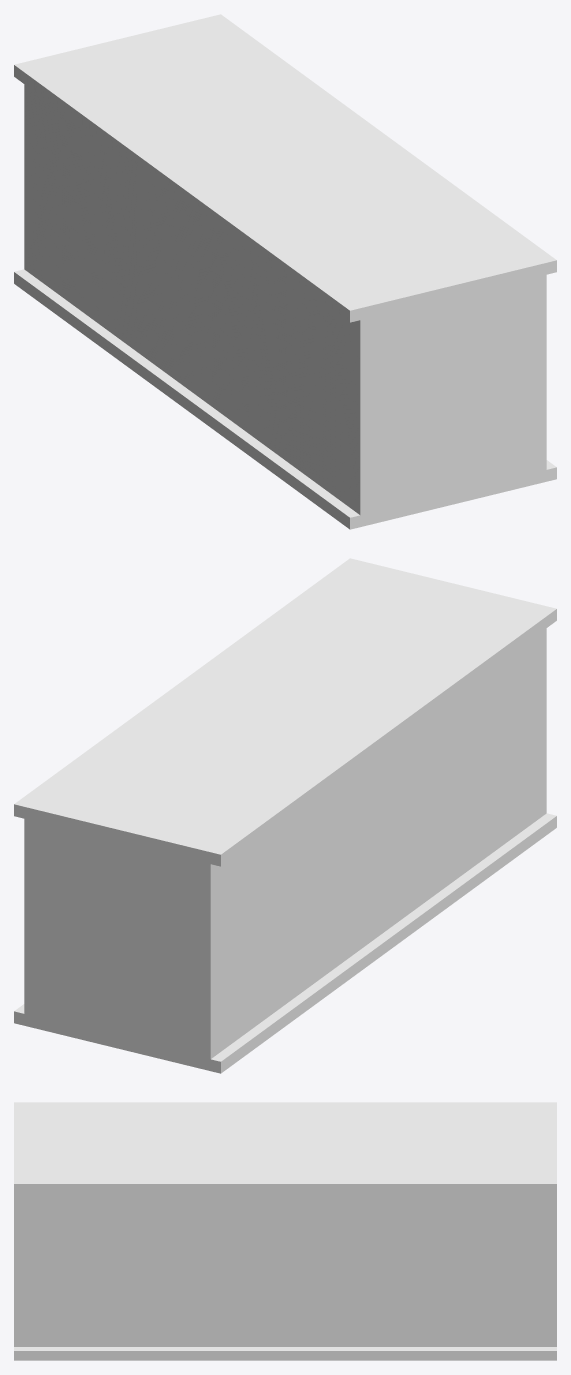
Rendered from ShippingContainerASlate.fbx.
The picture shows the model from 3 angles, top to bottom: view 1: azimuth 30°, elevation 25°; view 2: azimuth 150°, elevation 25°; view 3: azimuth 270°, elevation 25°; orthographic projection. The views are drawn at different scales.
Visible parts, largest first — view 1: ShippingContainerA2Slate; view 2: ShippingContainerA2Slate; view 3: ShippingContainerA2Slate.
Boxes of the visible parts, box(x1,y1,x2,y2) form: ShippingContainerA2Slate: box(14, 14, 556, 529); ShippingContainerA2Slate: box(14, 558, 556, 1073); ShippingContainerA2Slate: box(14, 1102, 556, 1360).
Size of the model in its own units: 170 by 172 by 479.
1 material, 1 textured.
